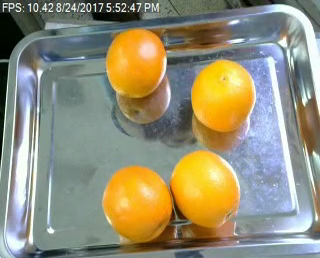Orange: (170, 148, 241, 229), (103, 165, 172, 242), (189, 58, 254, 132), (105, 26, 167, 99)
